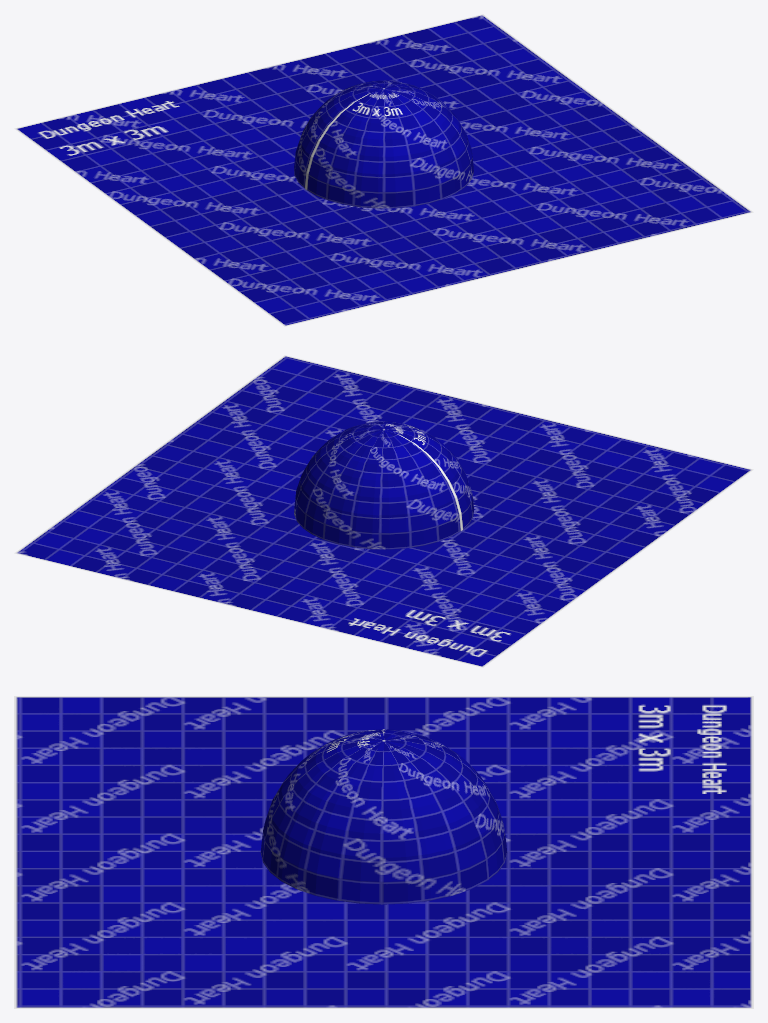
The model's file is Dungeon Heart 3m x 3m.glb.
The picture shows the model from 3 angles, top to bottom: view 1: azimuth 30°, elevation 25°; view 2: azimuth 150°, elevation 25°; view 3: azimuth 270°, elevation 25°; orthographic projection. The views are drawn at different scales.
Parts seen in each view (by area): view 1: Dungeon Heart; view 2: Dungeon Heart; view 3: Dungeon Heart.
Part boxes in pixels (<box>): Dungeon Heart: <box>14,14,753,326</box>; Dungeon Heart: <box>14,355,753,667</box>; Dungeon Heart: <box>14,696,753,1008</box>.
Bounding box in the file's own units: 3 × 1 × 3.
Materials: 1 (1 with a texture image).
